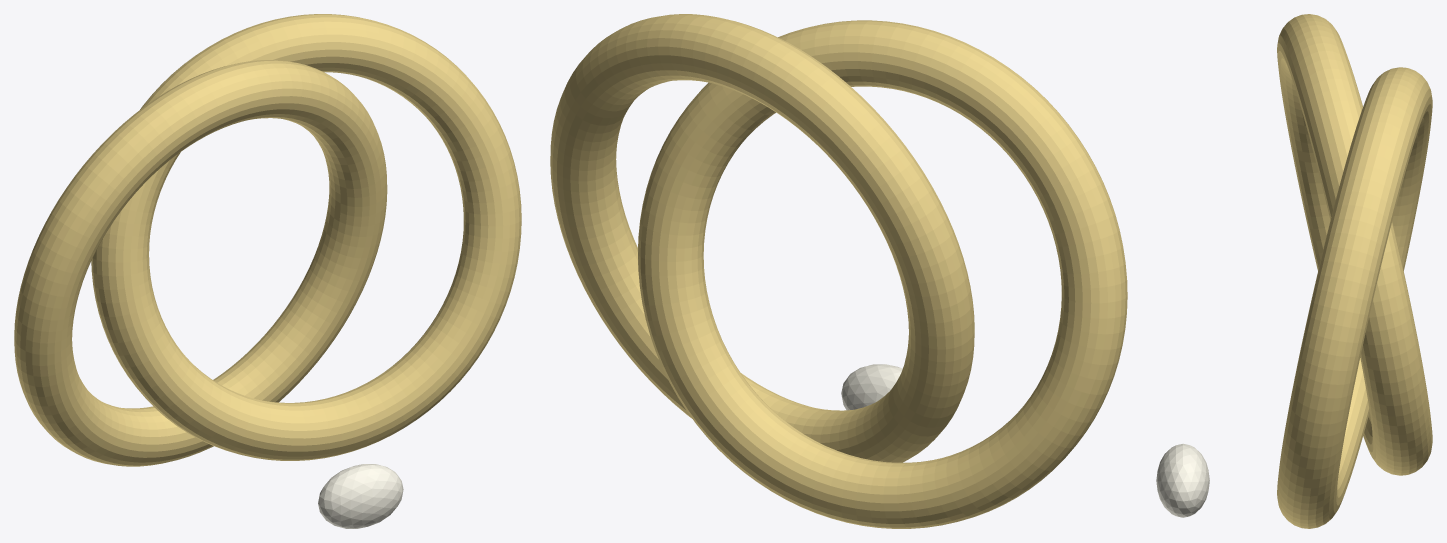
The model's file is gold-rings.glb.
3 renders of one model, left to right at view 1: azimuth 30°, elevation 25°; view 2: azimuth 150°, elevation 25°; view 3: azimuth 270°, elevation 25°, orthographic. The views are drawn at different scales.
Parts seen in each view (by area): view 1: Gold wedding ring 2, Gold wedding ring 1, Crystal accent; view 2: Gold wedding ring 1, Gold wedding ring 2, Crystal accent; view 3: Gold wedding ring 2, Gold wedding ring 1, Crystal accent.
Part boxes in pixels (<box>): Gold wedding ring 2: <box>91,14,521,460</box>; Gold wedding ring 1: <box>14,60,387,466</box>; Crystal accent: <box>318,464,403,528</box>; Gold wedding ring 1: <box>638,20,1127,528</box>; Gold wedding ring 2: <box>550,14,974,462</box>; Crystal accent: <box>841,364,902,410</box>; Gold wedding ring 2: <box>1277,67,1432,528</box>; Gold wedding ring 1: <box>1277,14,1432,475</box>; Crystal accent: <box>1156,443,1209,517</box>.
Size of the model in its own units: 2.07 by 1.69 by 0.9652.
